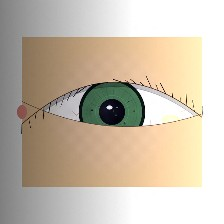pinguecula_lesion: (152, 105, 189, 134)
